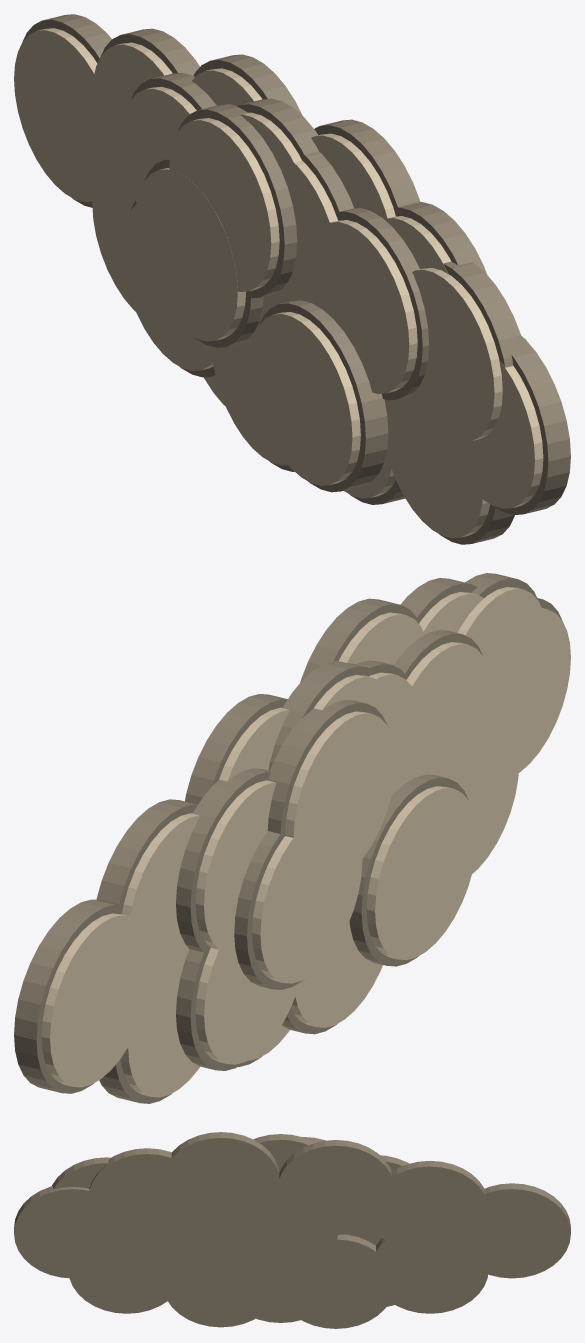
The model's file is UMUM_AWAN.fbx.
3 renders of one model, top to bottom at view 1: azimuth 30°, elevation 25°; view 2: azimuth 150°, elevation 25°; view 3: azimuth 270°, elevation 25°, orthographic. The views are drawn at different scales.
Visible parts, largest first — view 1: Cylinder.059; view 2: Cylinder.059; view 3: Cylinder.059.
Part boxes in pixels (x1=…): Cylinder.059: x1=14, y1=14, x2=570, y2=544; Cylinder.059: x1=14, y1=573, x2=570, y2=1103; Cylinder.059: x1=14, y1=1132, x2=570, y2=1328.
Bounding box in the file's own units: 17.76 × 82.08 × 217.
